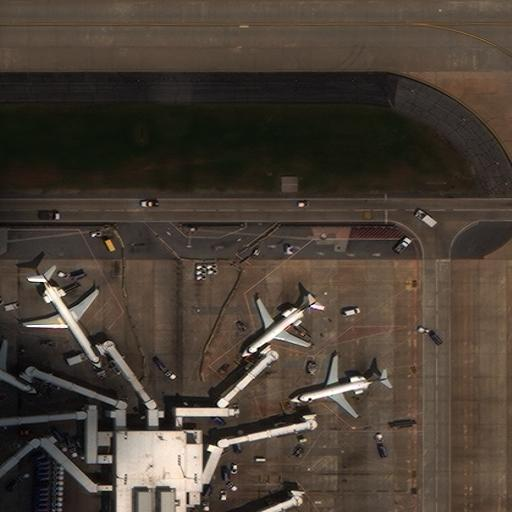Medium Civil Transport: (23, 272, 101, 369), (286, 360, 393, 418), (238, 299, 320, 359), (0, 341, 38, 395)
